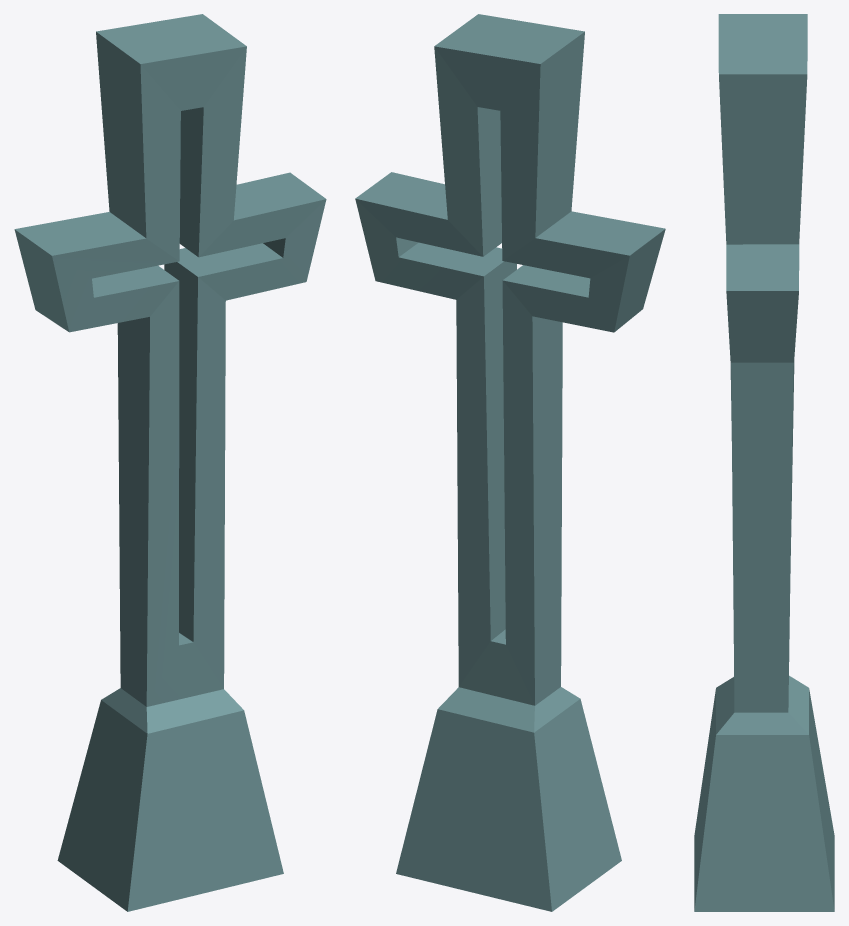
Rendered from Cementery_Tombstone.fbx.
3 views of the same model, side by side, from view 1: azimuth 30°, elevation 25°; view 2: azimuth 150°, elevation 25°; view 3: azimuth 270°, elevation 25° (orthographic).
Visible parts, largest first — view 1: Cross_01; view 2: Cross_01; view 3: Cross_01.
Boxes of the visible parts, left/top/right/bottom form: Cross_01: left=14, top=14, right=326, bottom=911; Cross_01: left=355, top=14, right=665, bottom=911; Cross_01: left=694, top=14, right=834, bottom=911.
Bounding box in the file's own units: 25.42 × 73.47 × 11.2.
